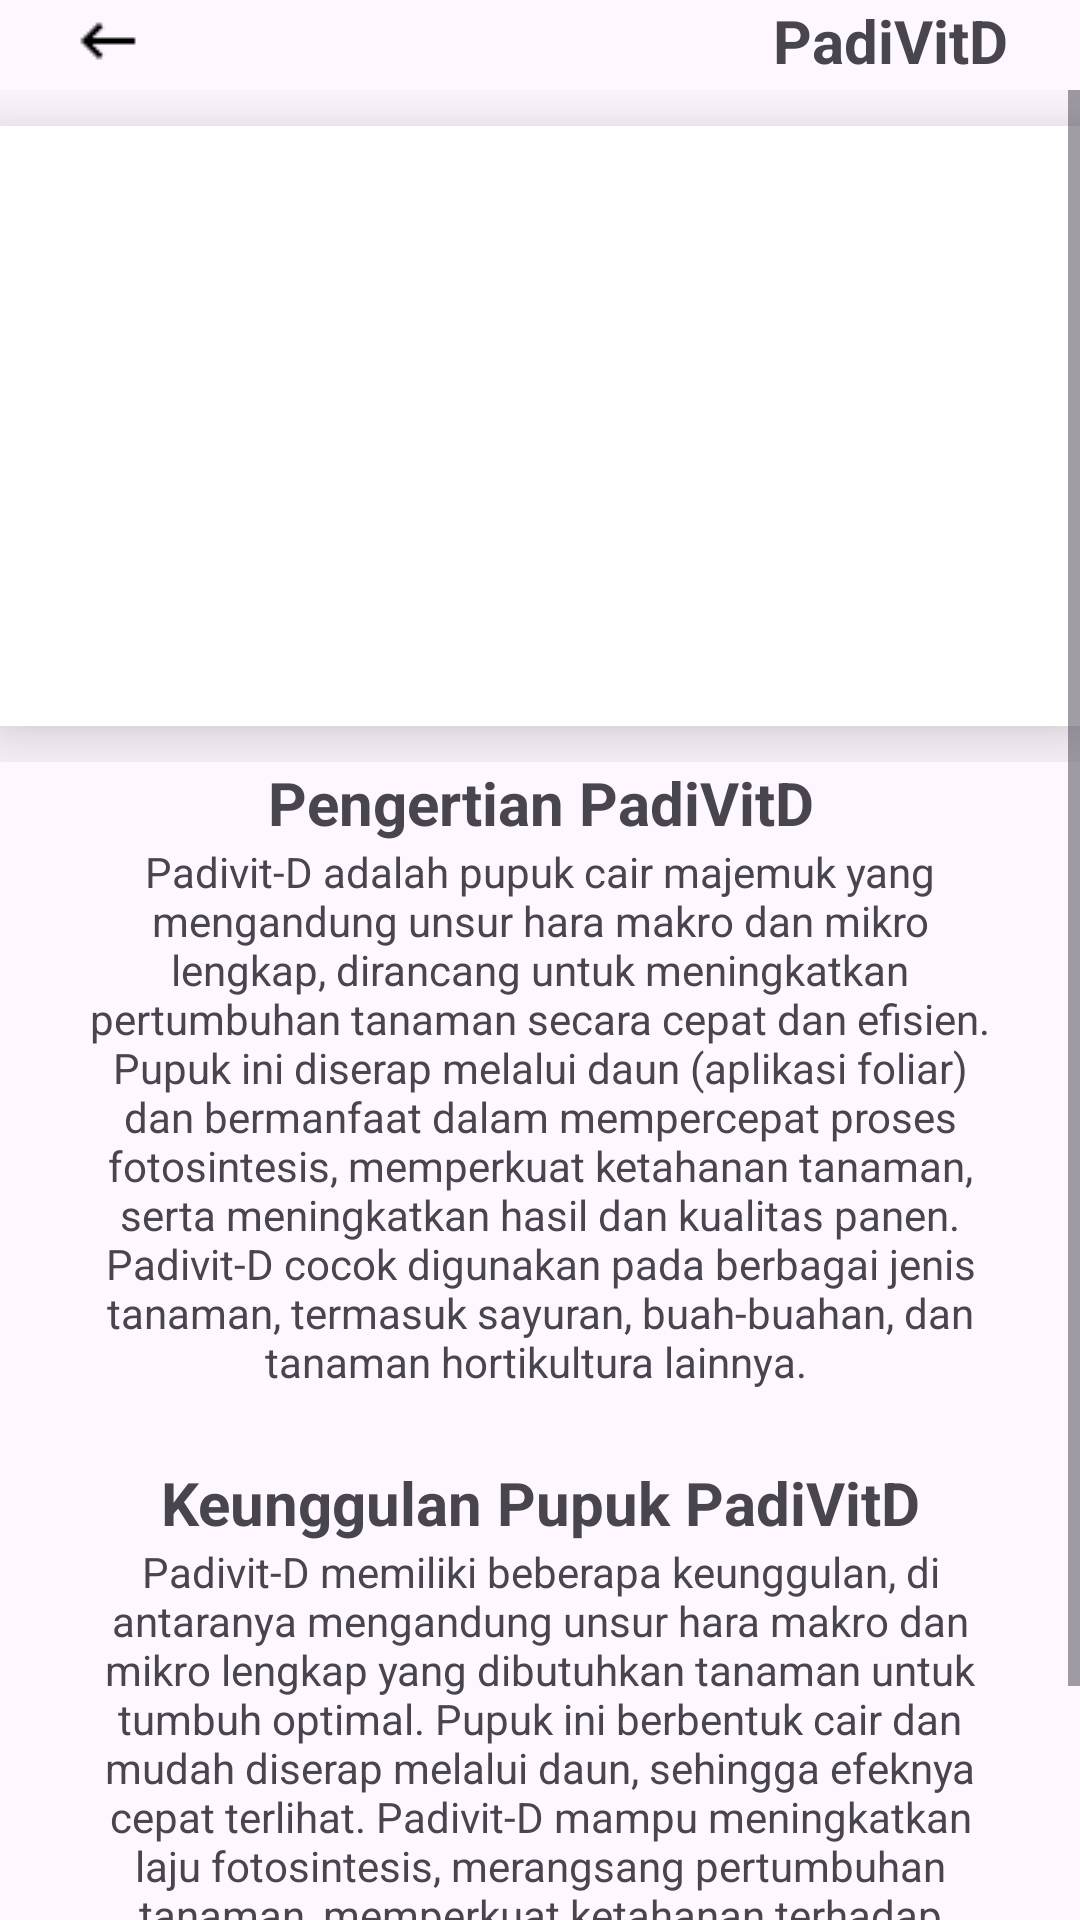

Screen size 1080px x 1920px. Icon name, then its center in pixels as (x,y):
keyboard backspace: (108,41)
